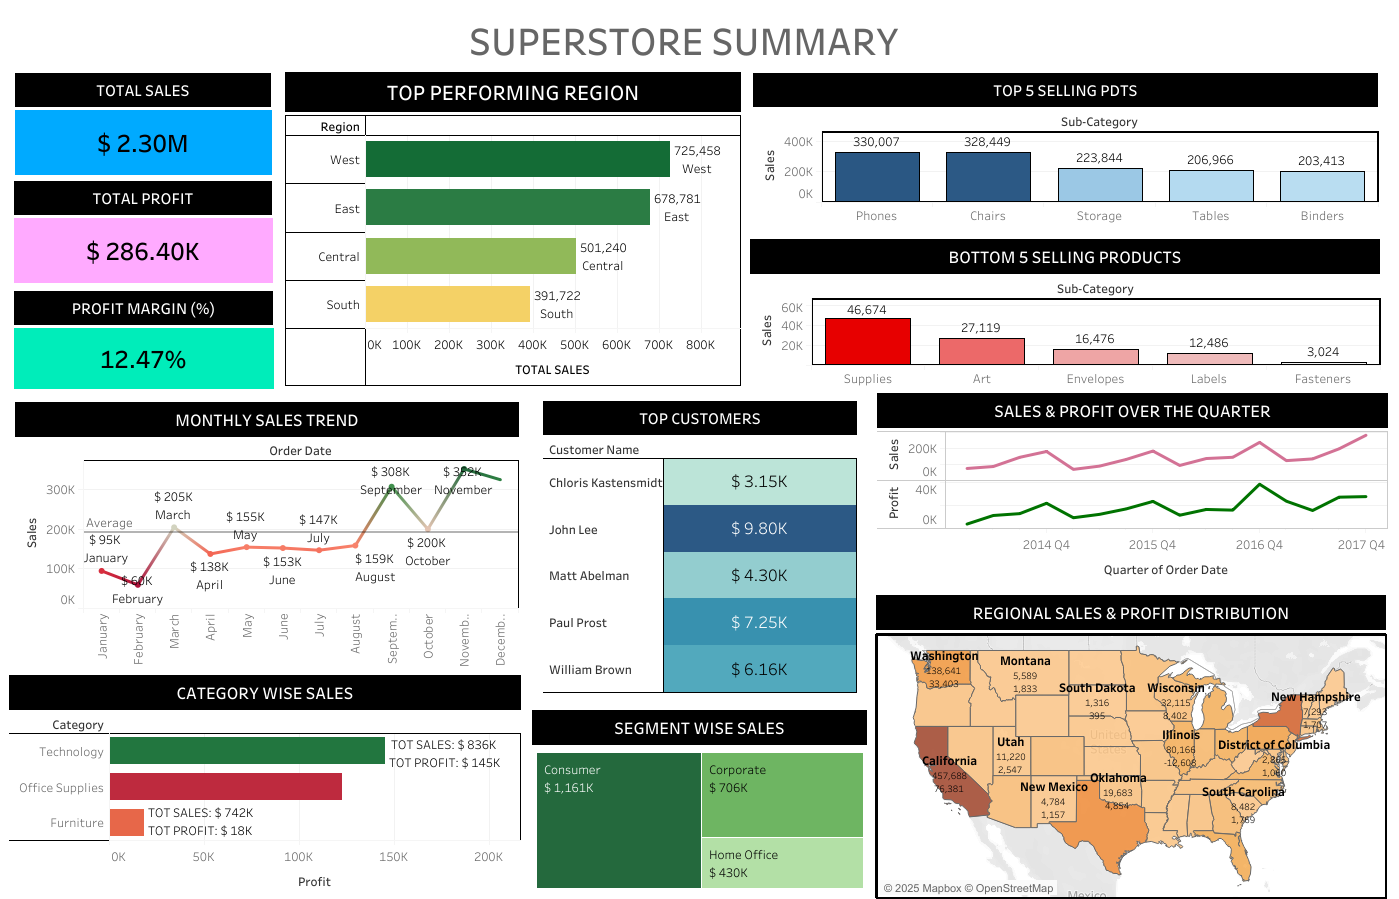

Layout of this report page (visuals, bound fields, positions):
{"tool":"tableau","page":{"name":"Dashboard 3","canvas":[1400,900],"ordinal":1},"visuals":[{"type":"text","box":[414,8,540,64]},{"type":"legend","title":"SEGMENT WISE SALES","param":"[federated.1gkw3520enqh9612kapy30fn79bv].[sum:Sales:qk]","box":[1232,8,160,65]},{"type":"worksheet","title":"TOP PERFORMING REGION","mark":"Automatic","rows":["Region"],"cols":["Calculation_92042366874775554"],"box":[285,84,456,305]},{"type":"worksheet","title":"TOP SELLING PRODUCTS","mark":"Automatic","rows":["Sales"],"cols":["Sub-Category"],"box":[752,84,627,160]},{"type":"worksheet","title":"TOTAL SALES","mark":"Automatic","box":[15,85,256,98]},{"type":"worksheet","title":"TOTAL PROFIT","mark":"Automatic","box":[14,188,258,98]},{"type":"worksheet","title":"BOTTOM SELLING PRODUCTS","mark":"Automatic","rows":["Sales"],"cols":["Sub-Category"],"box":[749,256,632,159]},{"type":"worksheet","title":"PROFIT MARGIN","mark":"Automatic","box":[14,291,259,97]},{"type":"worksheet","title":"MONTHLY SALES TREND","mark":"Automatic","rows":["Sales"],"cols":["Order Date"],"box":[15,402,504,267]},{"type":"worksheet","title":"CHOROPLETH MAP FOR SALES AND PROFIT","mark":"Automatic","box":[875,625,512,274]},{"type":"worksheet","title":"CATEGORY WISE PROFIT","mark":"Automatic","rows":["Category"],"cols":["Profit"],"box":[9,675,512,223]},{"type":"worksheet","title":"SEGMENT WISE SALES","mark":"Automatic","box":[532,710,335,177]}]}

Visuals, with their boxes in screenshot pixels (x1, y1, x2, y2), scaled from the page's 1400x900 canvas onto the 1399x899 screenshot:
text: left=414, top=8, right=953, bottom=72
"SEGMENT WISE SALES" legend: left=1231, top=8, right=1391, bottom=73
"TOP PERFORMING REGION" worksheet: left=285, top=84, right=740, bottom=389
"TOP SELLING PRODUCTS" worksheet: left=751, top=84, right=1378, bottom=244
"TOTAL SALES" worksheet: left=15, top=85, right=271, bottom=183
"TOTAL PROFIT" worksheet: left=14, top=188, right=272, bottom=286
"BOTTOM SELLING PRODUCTS" worksheet: left=748, top=256, right=1380, bottom=415
"PROFIT MARGIN" worksheet: left=14, top=291, right=273, bottom=388
"MONTHLY SALES TREND" worksheet: left=15, top=402, right=519, bottom=668
"CHOROPLETH MAP FOR SALES AND PROFIT" worksheet: left=874, top=624, right=1386, bottom=898
"CATEGORY WISE PROFIT" worksheet: left=9, top=674, right=521, bottom=897
"SEGMENT WISE SALES" worksheet: left=532, top=709, right=866, bottom=886
